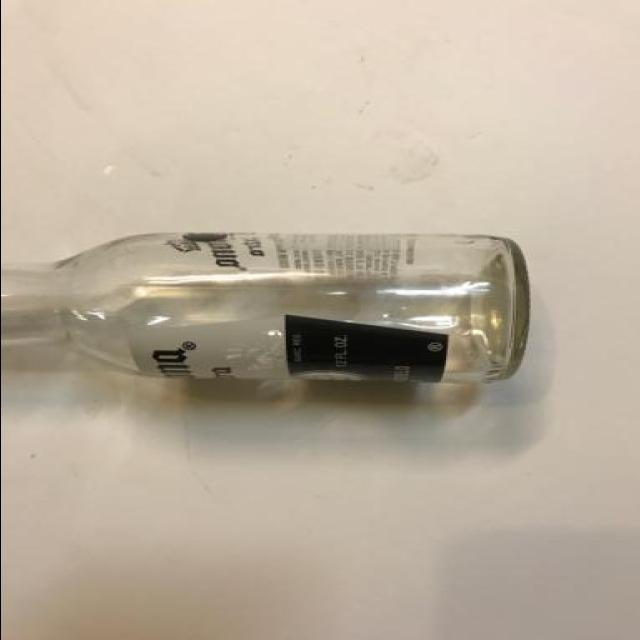Glass Bottle: (7, 229, 533, 389)
